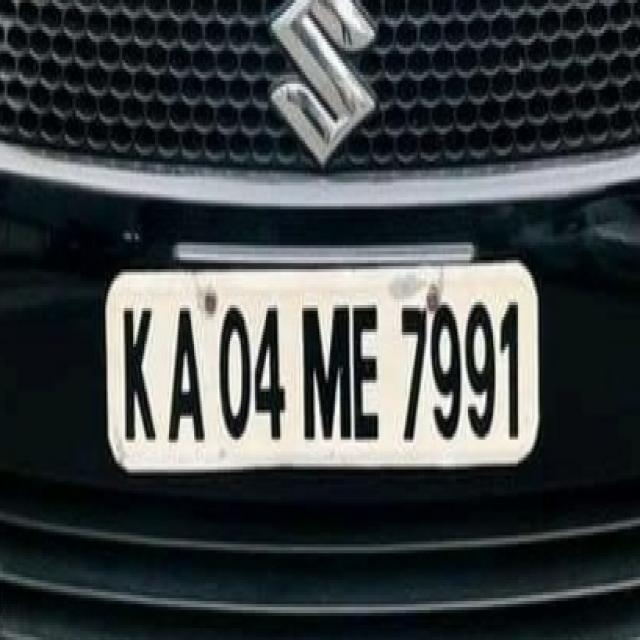0: (214, 302, 252, 443)
1: (497, 290, 522, 444)
4: (251, 305, 291, 443)
7: (396, 292, 429, 454)
9: (429, 290, 464, 448), (464, 292, 497, 445)
A: (167, 301, 210, 448)
E: (352, 296, 384, 446)
K: (117, 296, 160, 446)
M: (300, 297, 352, 447)
